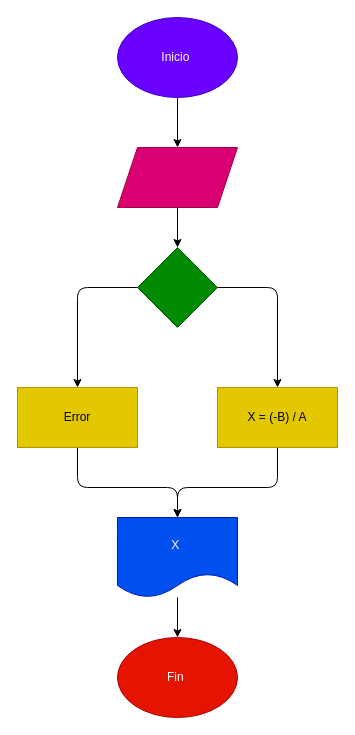
Some shapes in this 355 by 735 pixel diagram are drawn without their labels. The centre of each missing label's shape, as x and y in pixels:
A != 0: the point at 177,287
A, B: the point at 177,177
